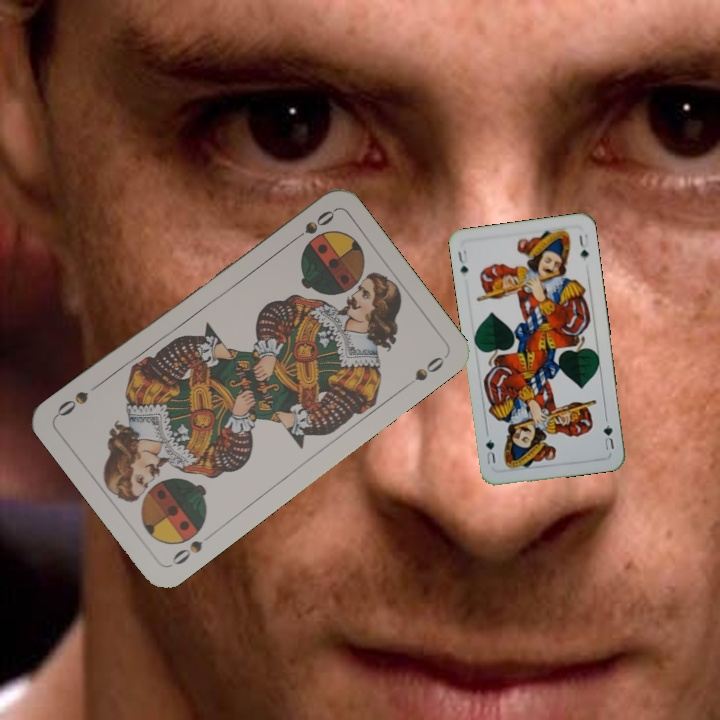GU: (599, 420, 617, 453), (454, 246, 471, 276)
SO: (285, 206, 338, 247), (166, 535, 205, 569)
